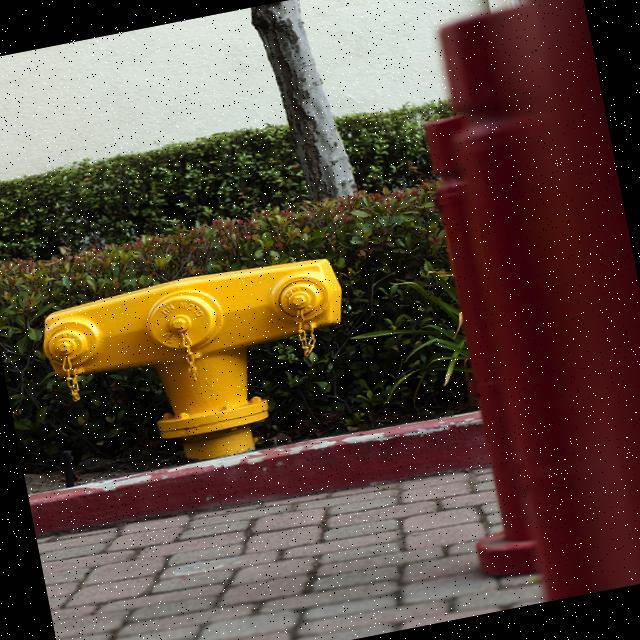fire_hydrant: (31, 245, 368, 487)
